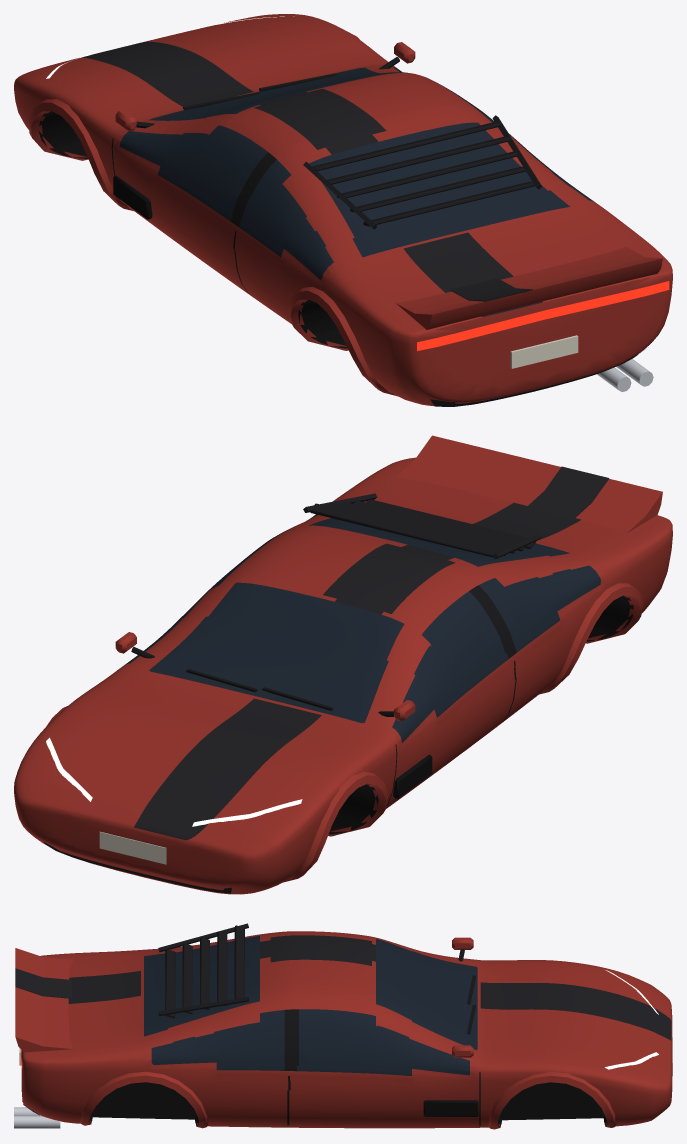
Rendered from car_obituary.glb.
The picture shows the model from 3 angles, top to bottom: view 1: azimuth 30°, elevation 25°; view 2: azimuth 150°, elevation 25°; view 3: azimuth 270°, elevation 25°; orthographic projection. The views are drawn at different scales.
Visible parts, largest first — view 1: body, parts, lips, strip2; view 2: body, parts, lips; view 3: body, parts, lips.
Boxes of the visible parts, x1=… form: body: x1=14, y1=14, x2=672, y2=406; parts: x1=113, y1=42, x2=662, y2=391; lips: x1=28, y1=31, x2=397, y2=396; strip2: x1=417, y1=281, x2=669, y2=351; body: x1=14, y1=457, x2=672, y2=894; parts: x1=99, y1=435, x2=662, y2=864; lips: x1=46, y1=583, x2=643, y2=882; body: x1=21, y1=931, x2=672, y2=1128; parts: x1=14, y1=923, x2=672, y2=1128; lips: x1=80, y1=1071, x2=616, y2=1129.
Bounding box in the file's own units: 1.88 × 1.05 × 4.55.
